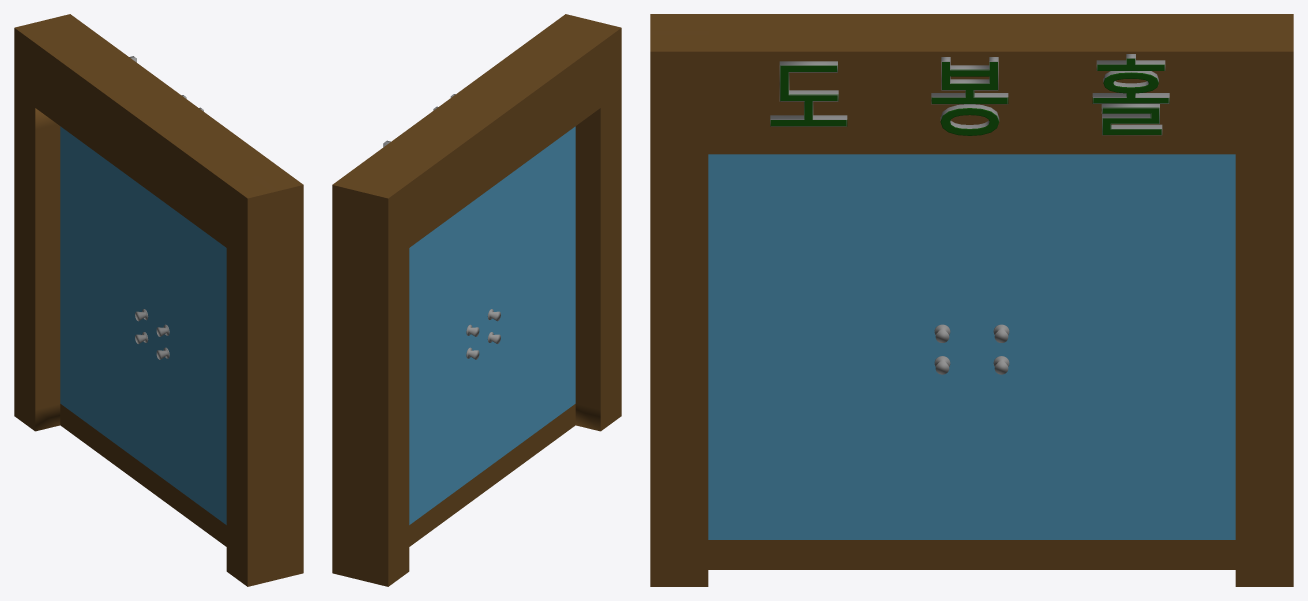
File: door_dobong.fbx
3 renders of one model, left to right at view 1: azimuth 30°, elevation 25°; view 2: azimuth 150°, elevation 25°; view 3: azimuth 270°, elevation 25°, orthographic. The views are drawn at different scales.
Parts seen in each view (by area): view 1: Cube.002; view 2: Cube.002; view 3: Cube.002.
Boxes of the visible parts, <box> form: Cube.002: <box>14,14,303,586</box>; Cube.002: <box>332,14,621,586</box>; Cube.002: <box>650,14,1293,586</box>.
Bounding box in the file's own units: 171 × 1019 × 1110.
3 materials, 3 textured.
